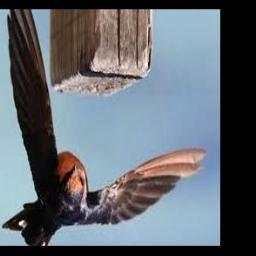Swallow: (2, 9, 206, 246)
